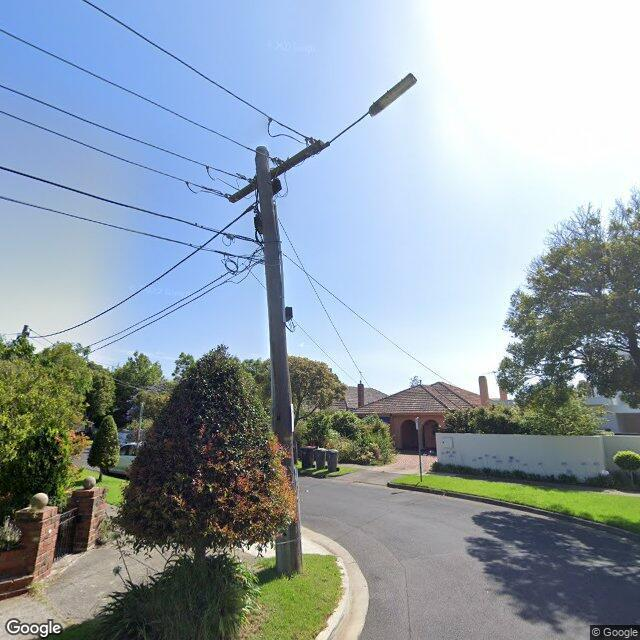crossarm: (184, 116, 330, 205)
streetlight: (328, 72, 418, 143)
timber-pole: (256, 144, 304, 570)
